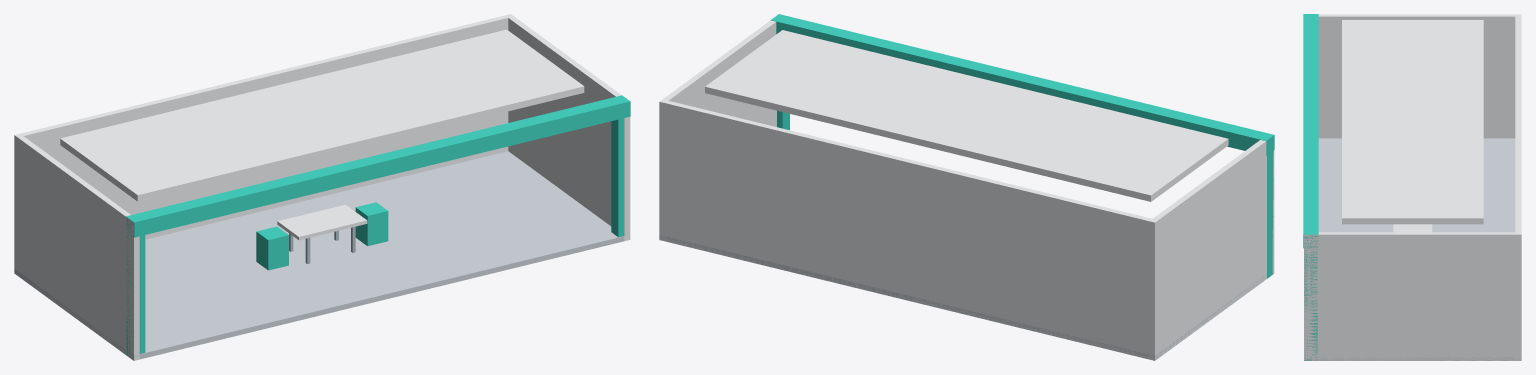
The picture shows the model from 3 angles, left to right: view 1: azimuth 30°, elevation 25°; view 2: azimuth 150°, elevation 25°; view 3: azimuth 270°, elevation 25°; orthographic projection. The views are drawn at different scales.
Parts seen in each view (by area): view 1: Exhibition Booth Concept; view 2: Exhibition Booth Concept; view 3: Exhibition Booth Concept.
Part boxes in pixels (x1,y1,x2,y2): Exhibition Booth Concept: (14,14,630,360); Exhibition Booth Concept: (659,14,1274,360); Exhibition Booth Concept: (1303,14,1521,360).
Size of the model in its own units: 12 by 3.34 by 5.02.
